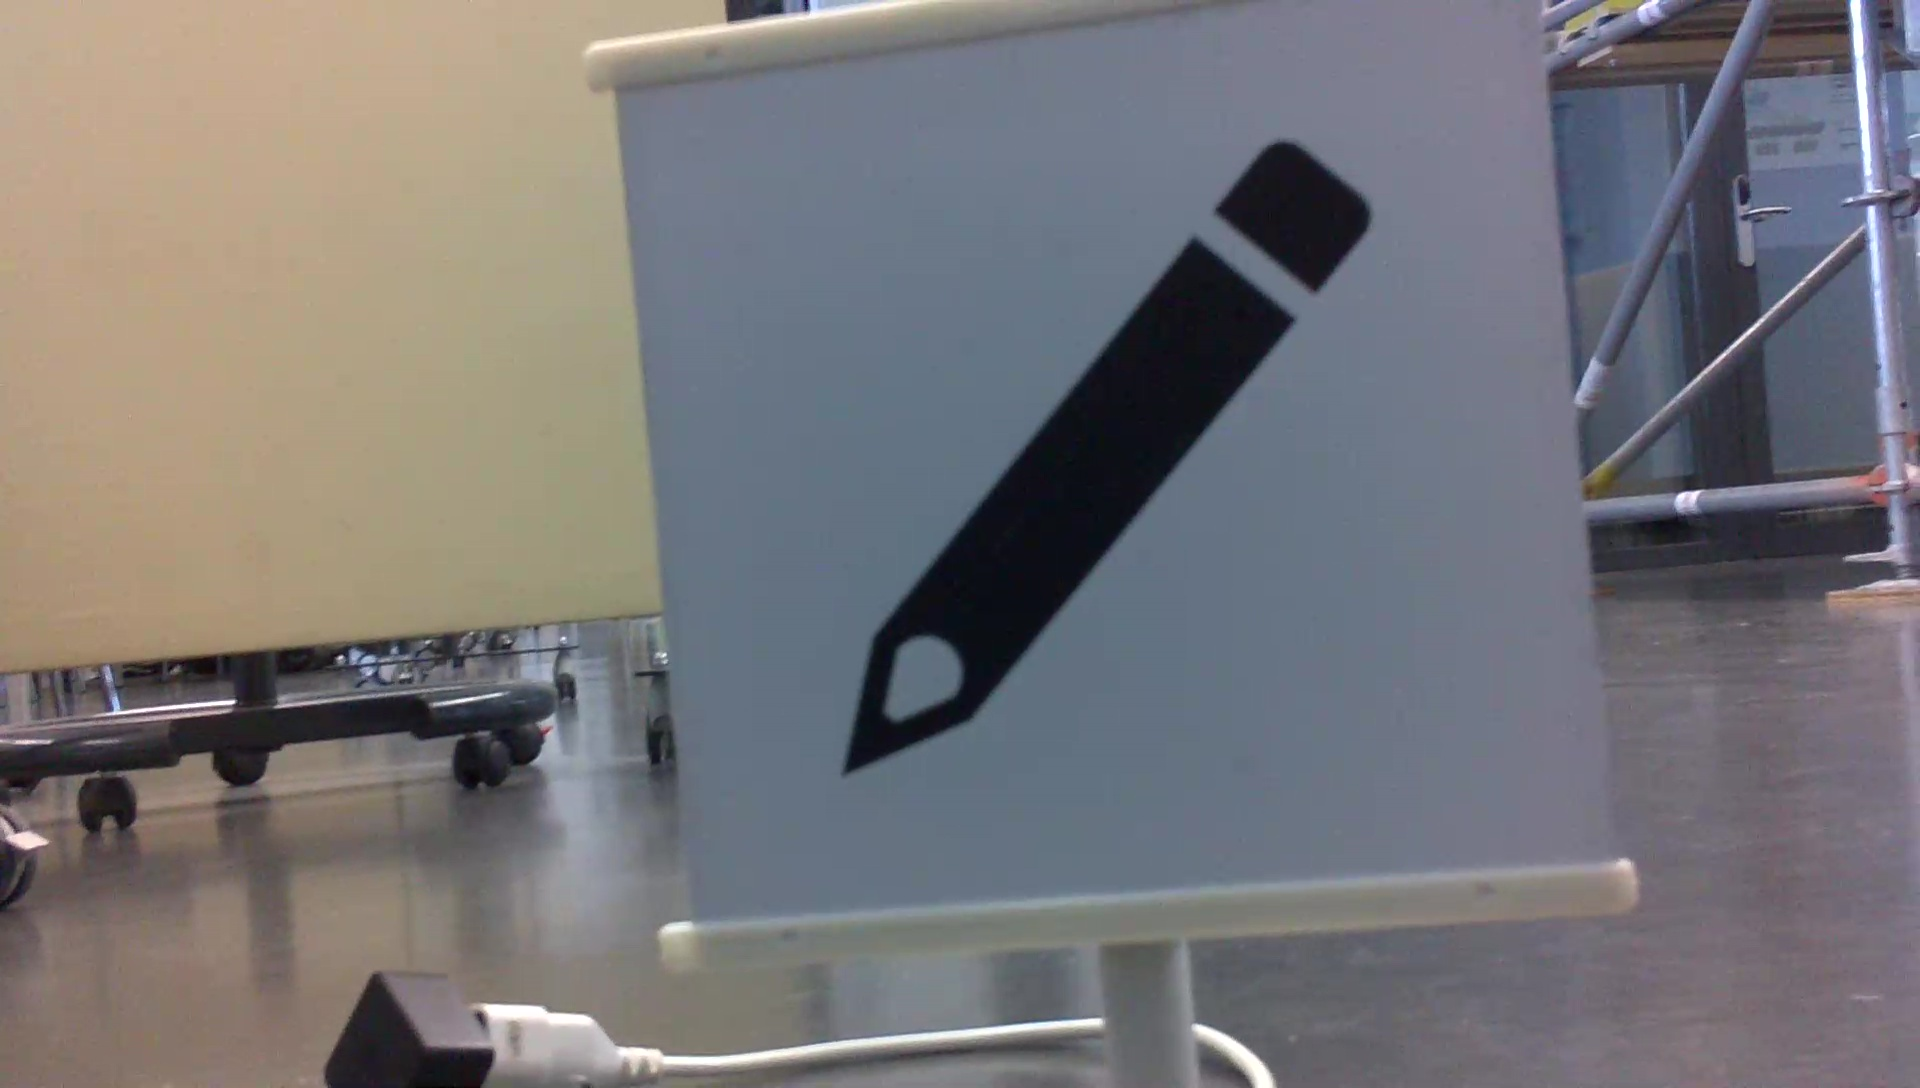pencil: (808, 127, 1398, 787)
